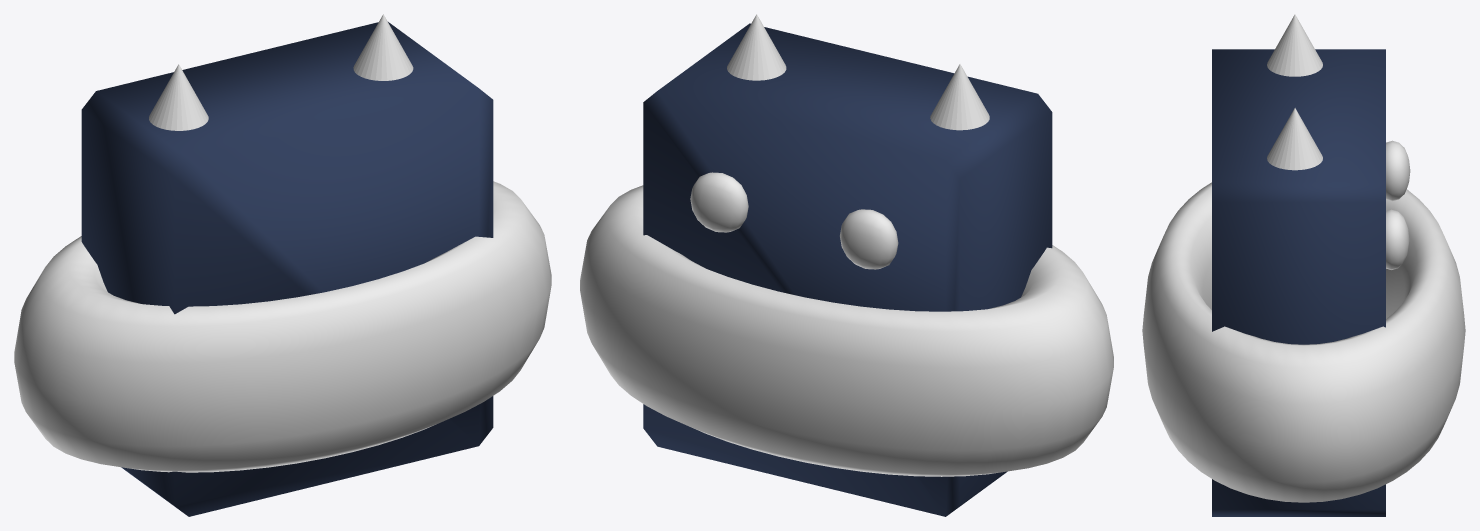
The model's file is Enemy_4.fbx.
3 views of the same model, side by side, from view 1: azimuth 30°, elevation 25°; view 2: azimuth 150°, elevation 25°; view 3: azimuth 270°, elevation 25° (orthographic). The views are drawn at different scales.
Parts seen in each view (by area): view 1: Enemy_4; view 2: Enemy_4; view 3: Enemy_4.
Boxes of the visible parts, x1=… form: Enemy_4: x1=14, y1=14, x2=551, y2=516; Enemy_4: x1=580, y1=14, x2=1113, y2=516; Enemy_4: x1=1142, y1=14, x2=1465, y2=516.
Bounding box in the file's own units: 216 × 167 × 127.
